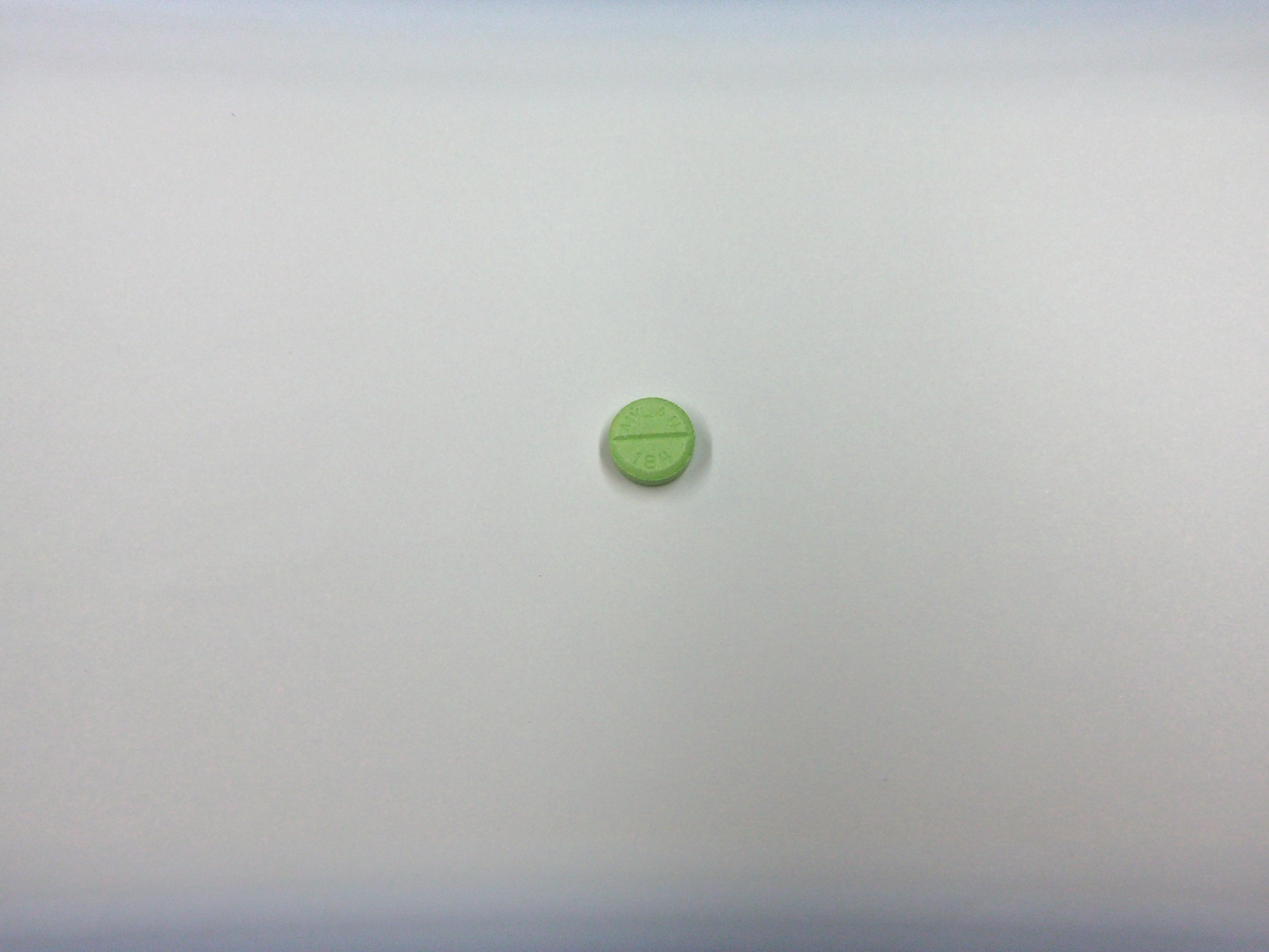Pill: (596, 388, 701, 494)
